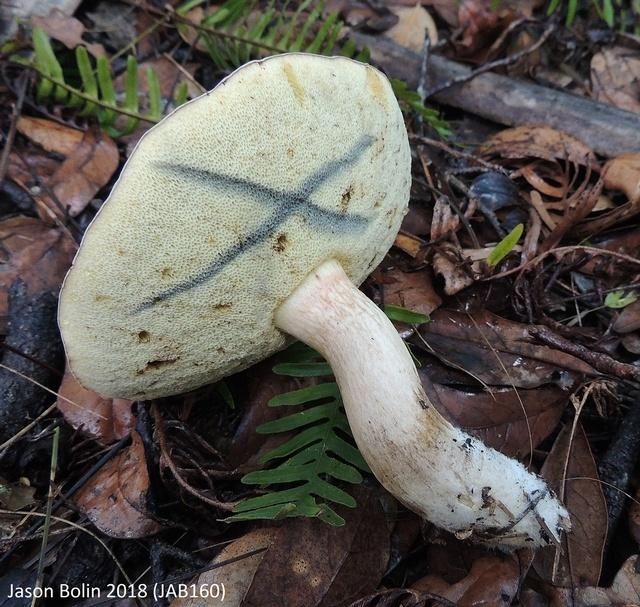edible_mushroom: (55, 50, 573, 553)
